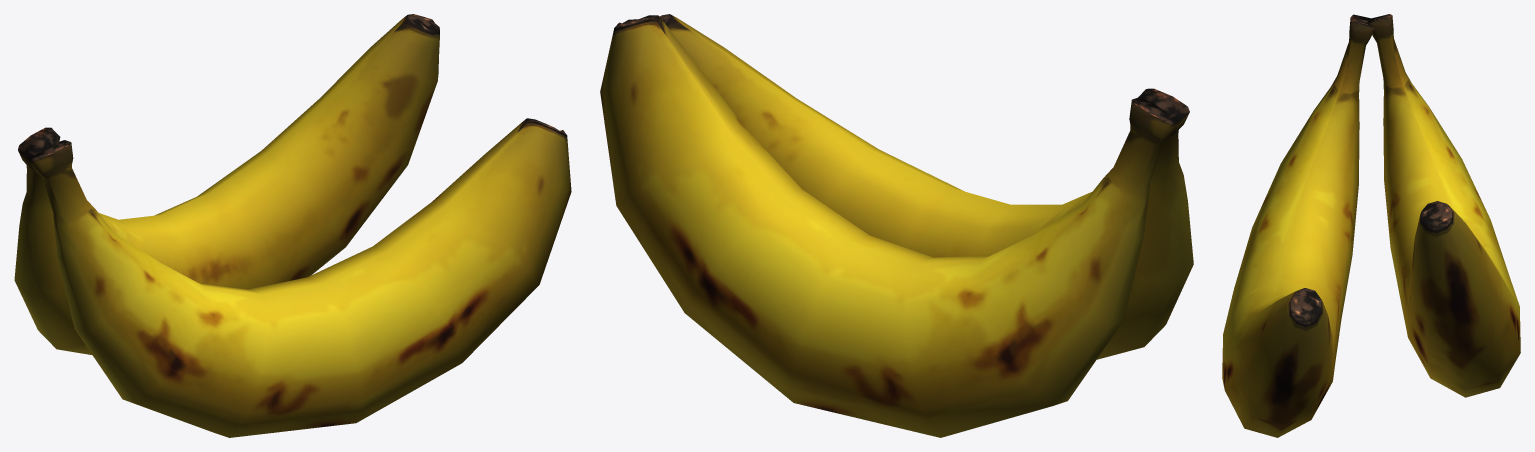
The model's file is Banana.FBX.
3 renders of one model, left to right at view 1: azimuth 30°, elevation 25°; view 2: azimuth 150°, elevation 25°; view 3: azimuth 270°, elevation 25°, orthographic. The views are drawn at different scales.
Visible parts, largest first — view 1: Banana; view 2: Banana; view 3: Banana.
Boxes of the visible parts, box(x1,y1,x2,y2) form: Banana: box(14, 14, 571, 437); Banana: box(600, 14, 1193, 437); Banana: box(1222, 14, 1520, 437).
Size of the model in its own units: 19.76 by 11.44 by 10.56.
